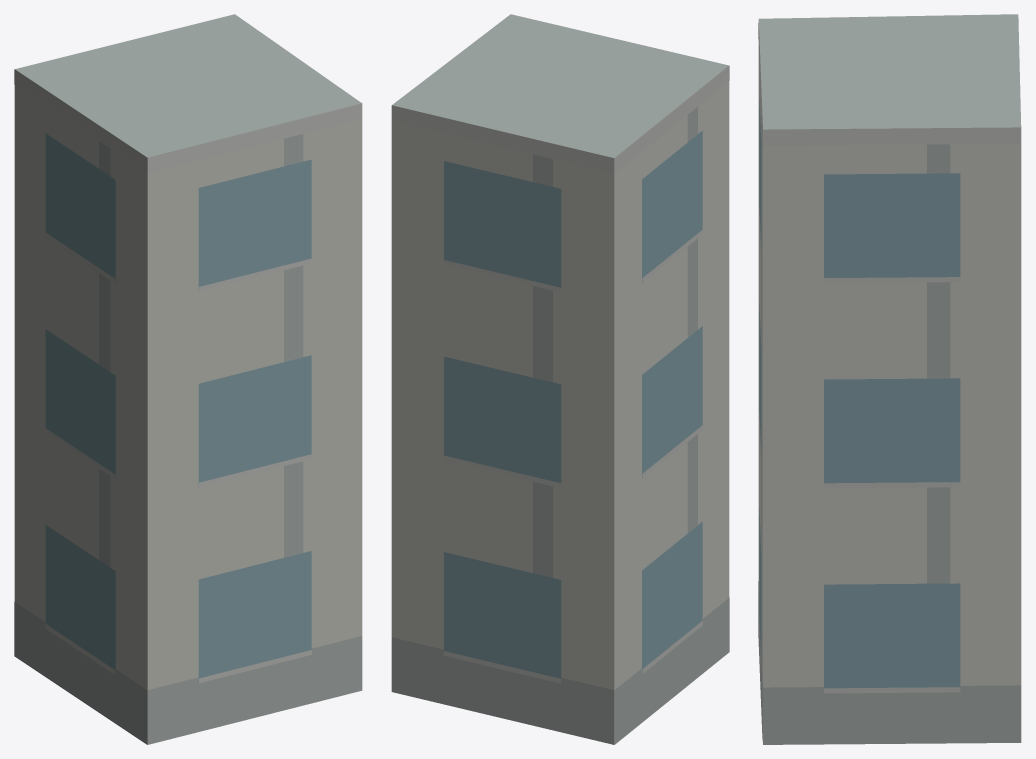
The model's file is survey-upis-32543066.glb.
3 views of the same model, side by side, from view 1: azimuth 30°, elevation 25°; view 2: azimuth 150°, elevation 25°; view 3: azimuth 270°, elevation 25° (orthographic). The views are drawn at different scales.
Visible parts, largest first — view 1: survey-upis-32543066.tmp; view 2: survey-upis-32543066.tmp; view 3: survey-upis-32543066.tmp.
Part boxes in pixels (x1,y1,x2,y2): survey-upis-32543066.tmp: (14, 14, 362, 744); survey-upis-32543066.tmp: (391, 14, 729, 744); survey-upis-32543066.tmp: (758, 14, 1021, 744).
Size of the model in its own units: 3.69 by 9.15 by 3.55.
